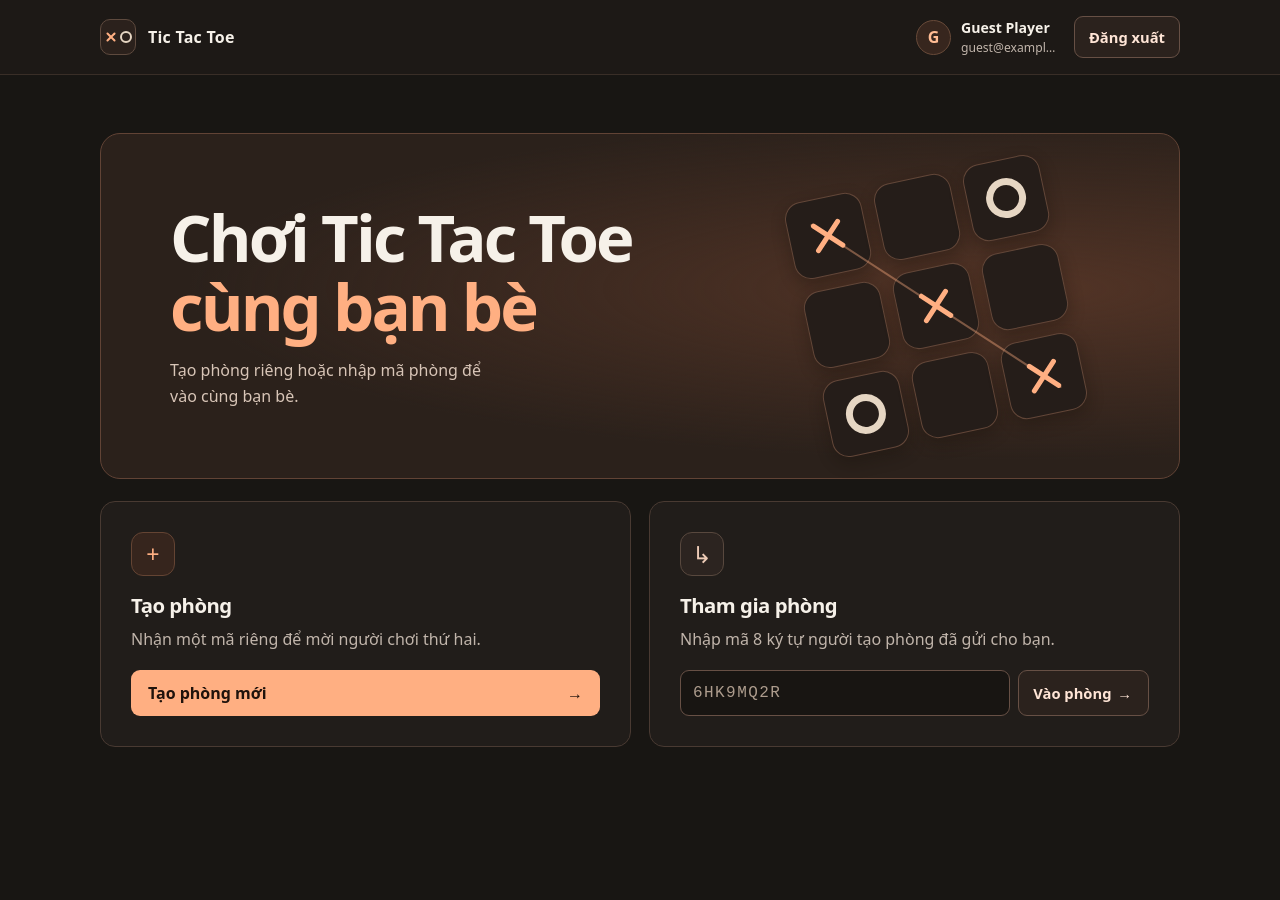
Test: Tạo phòng chơi › tạo phòng, mở phòng chờ và hiển thị mã cùng chỗ trống cho người thứ hai
Click the button "Tạo phòng mới →". click: (207, 693)
box: [131,670,600,716]
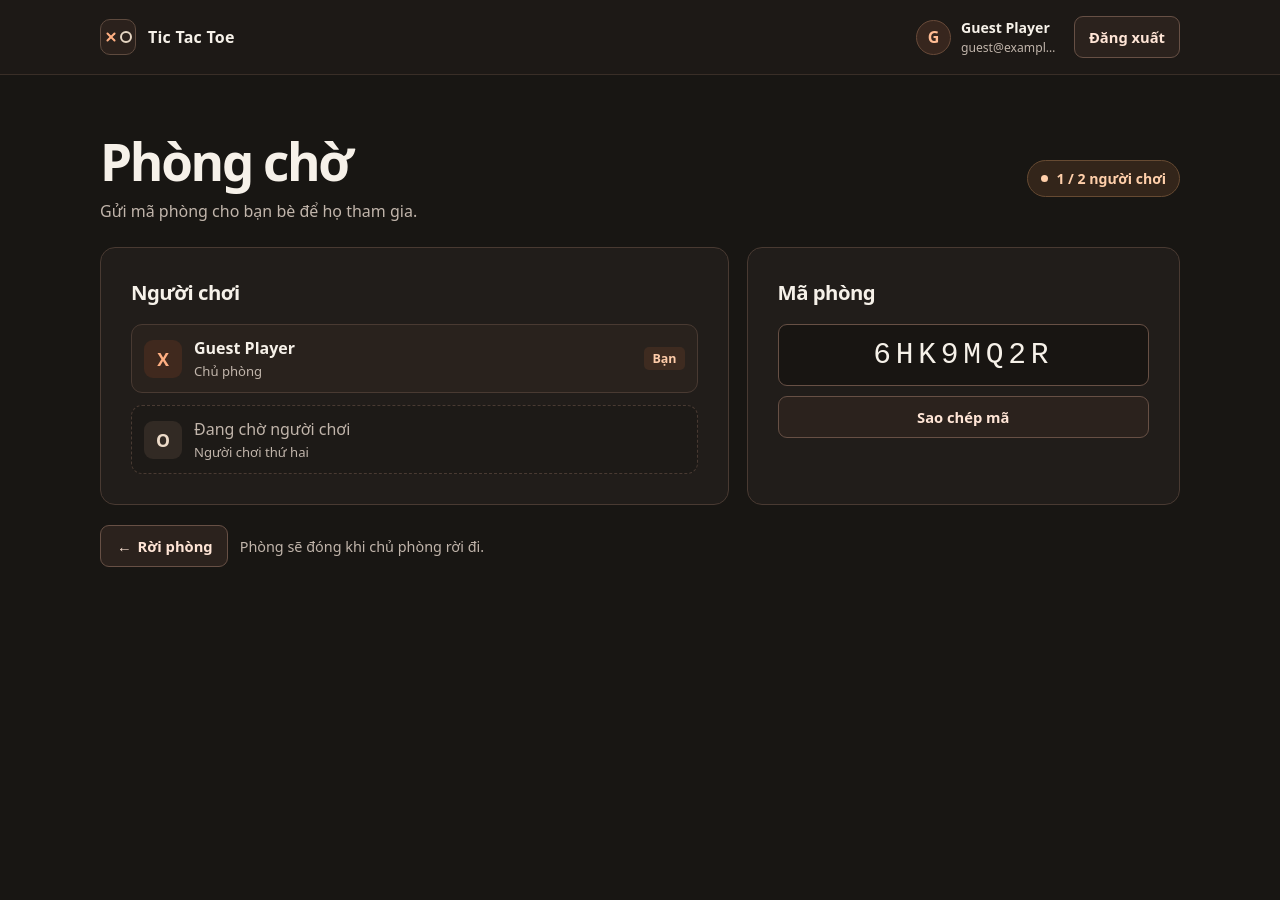
expect the heading "Phòng chờ" is shown: met, box [100,126,351,196]
expect the field labelled "Mã phòng" holds "6HK9MQ2R": met, box [778,324,1149,386]
expect the text "1 / 2 người chơi" is shown: met, box [1027,160,1180,197]
